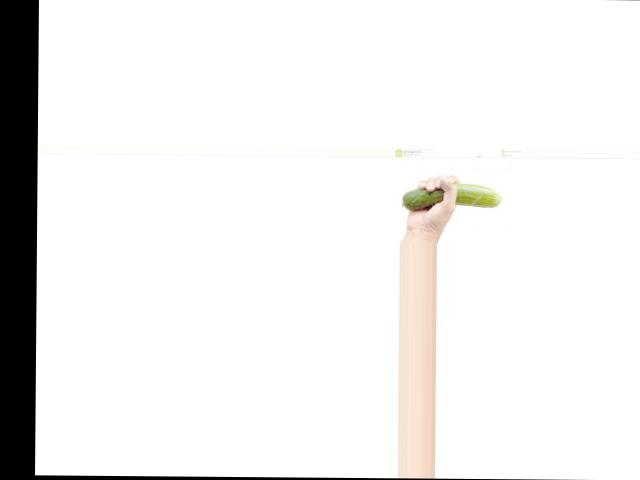cucumber: (403, 181, 502, 210)
